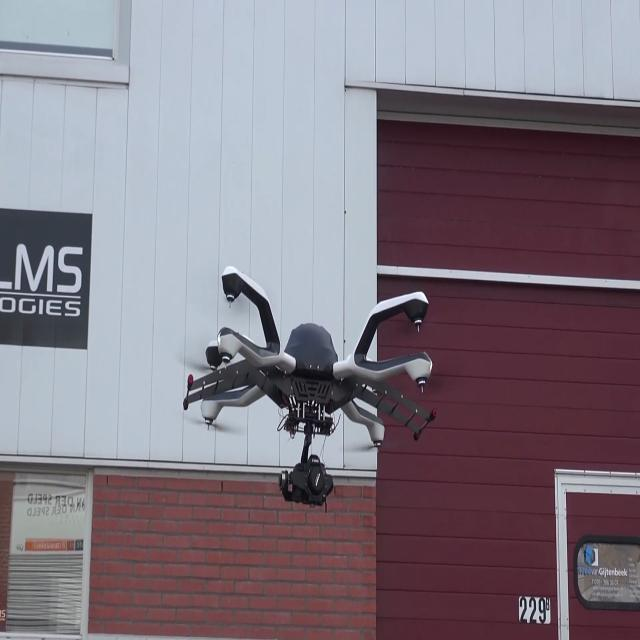drone: (185, 227, 448, 514)
